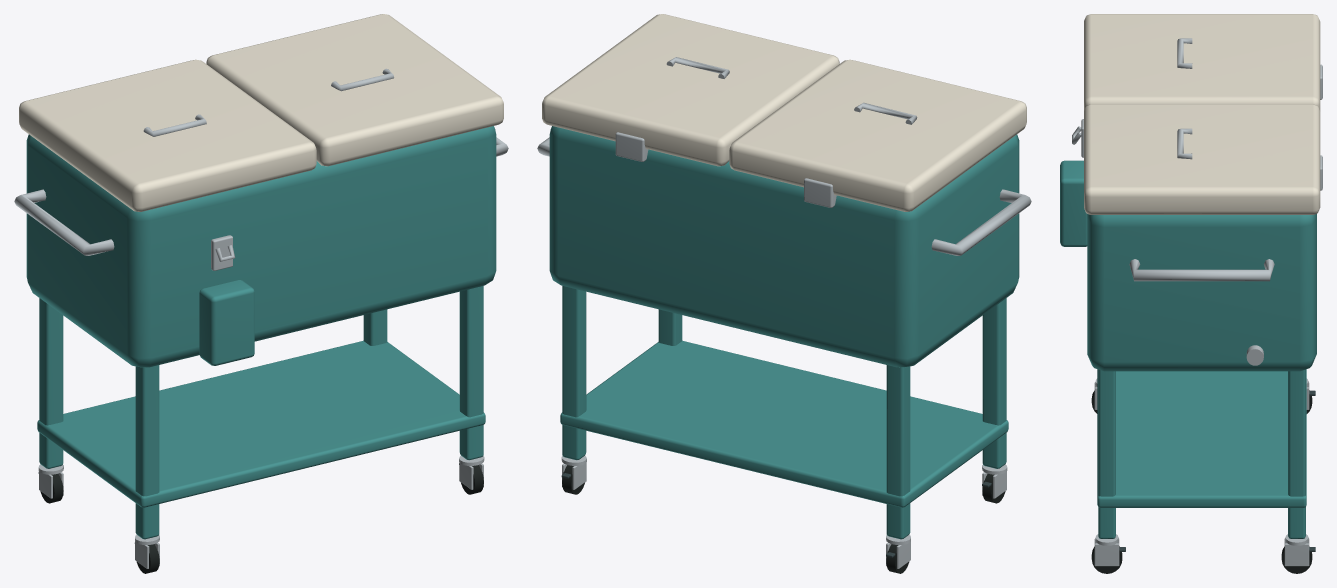
The model's file is outdoor-cooler-cart.glb.
3 views of the same model, side by side, from view 1: azimuth 30°, elevation 25°; view 2: azimuth 150°, elevation 25°; view 3: azimuth 270°, elevation 25° (orthographic).
Visible parts, largest first — view 1: outdoor-cooler-cart authored assembly; view 2: outdoor-cooler-cart authored assembly; view 3: outdoor-cooler-cart authored assembly.
Boxes of the visible parts, left/top/right/bottom form: outdoor-cooler-cart authored assembly: left=14, top=14, right=508, bottom=573; outdoor-cooler-cart authored assembly: left=537, top=14, right=1031, bottom=573; outdoor-cooler-cart authored assembly: left=1060, top=14, right=1322, bottom=573.
Bounding box in the file's own units: 0.95 × 0.86 × 0.515.
